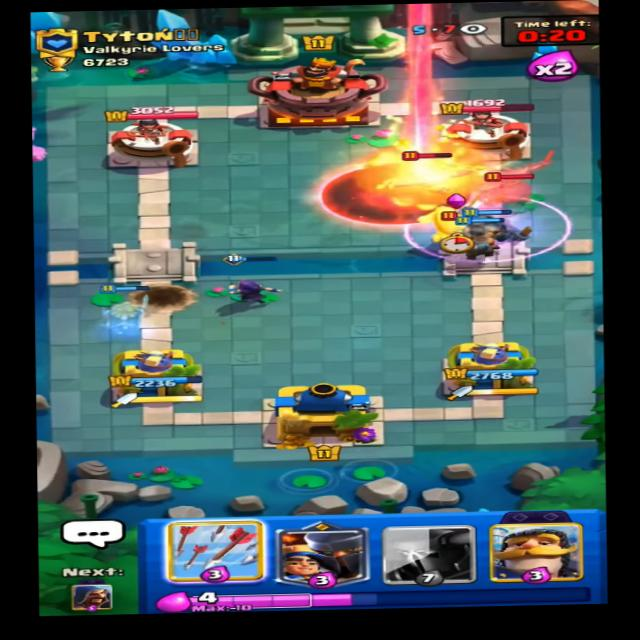Knight: (413, 202, 477, 249)
Pekka: (471, 156, 558, 202)
Pheonix: (371, 153, 486, 199)
